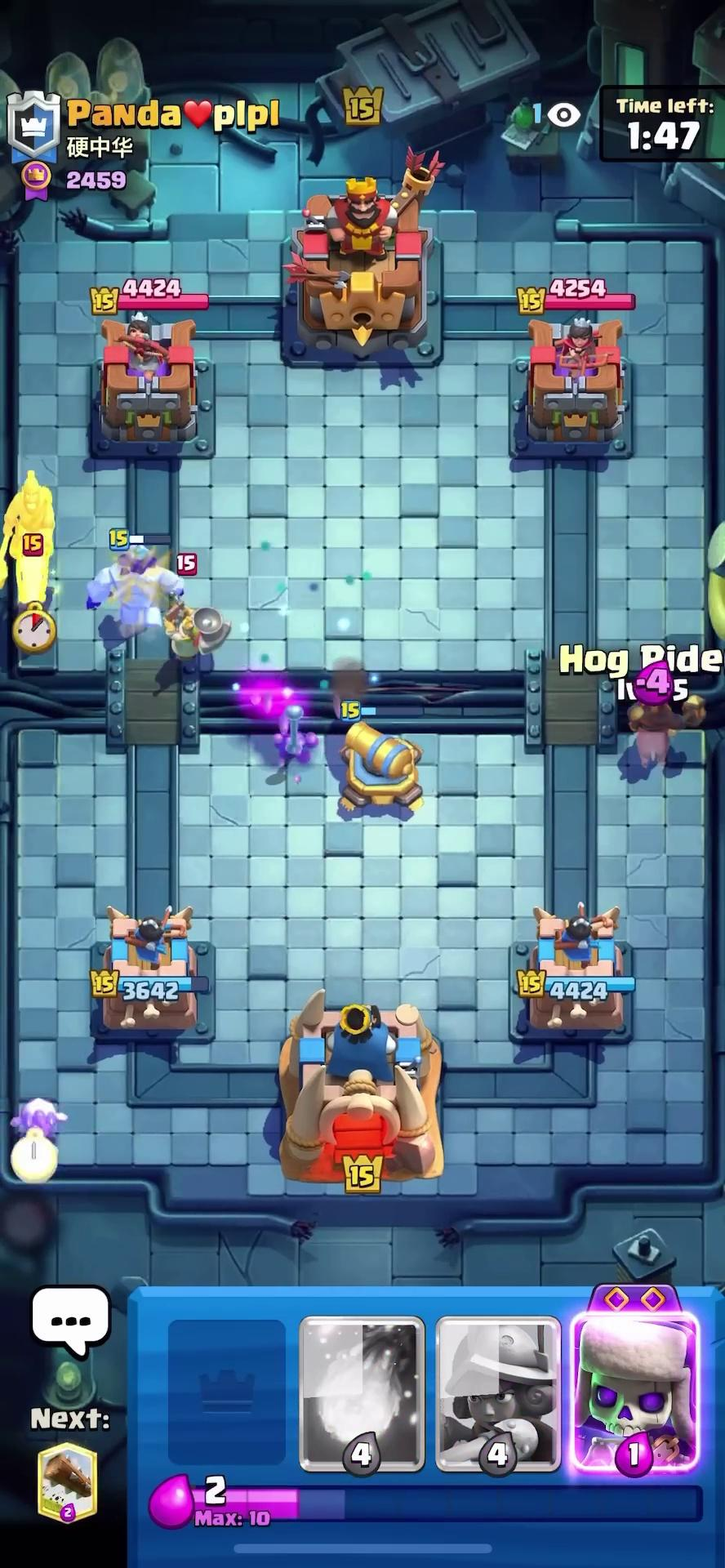cannon: (337, 694, 439, 815)
